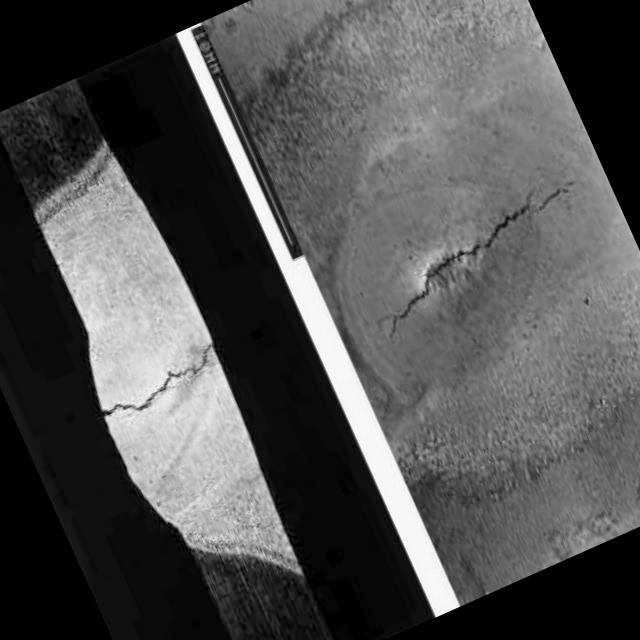defect: (386, 184, 578, 352), (99, 340, 213, 422)
